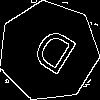D: (24, 26, 80, 85)
